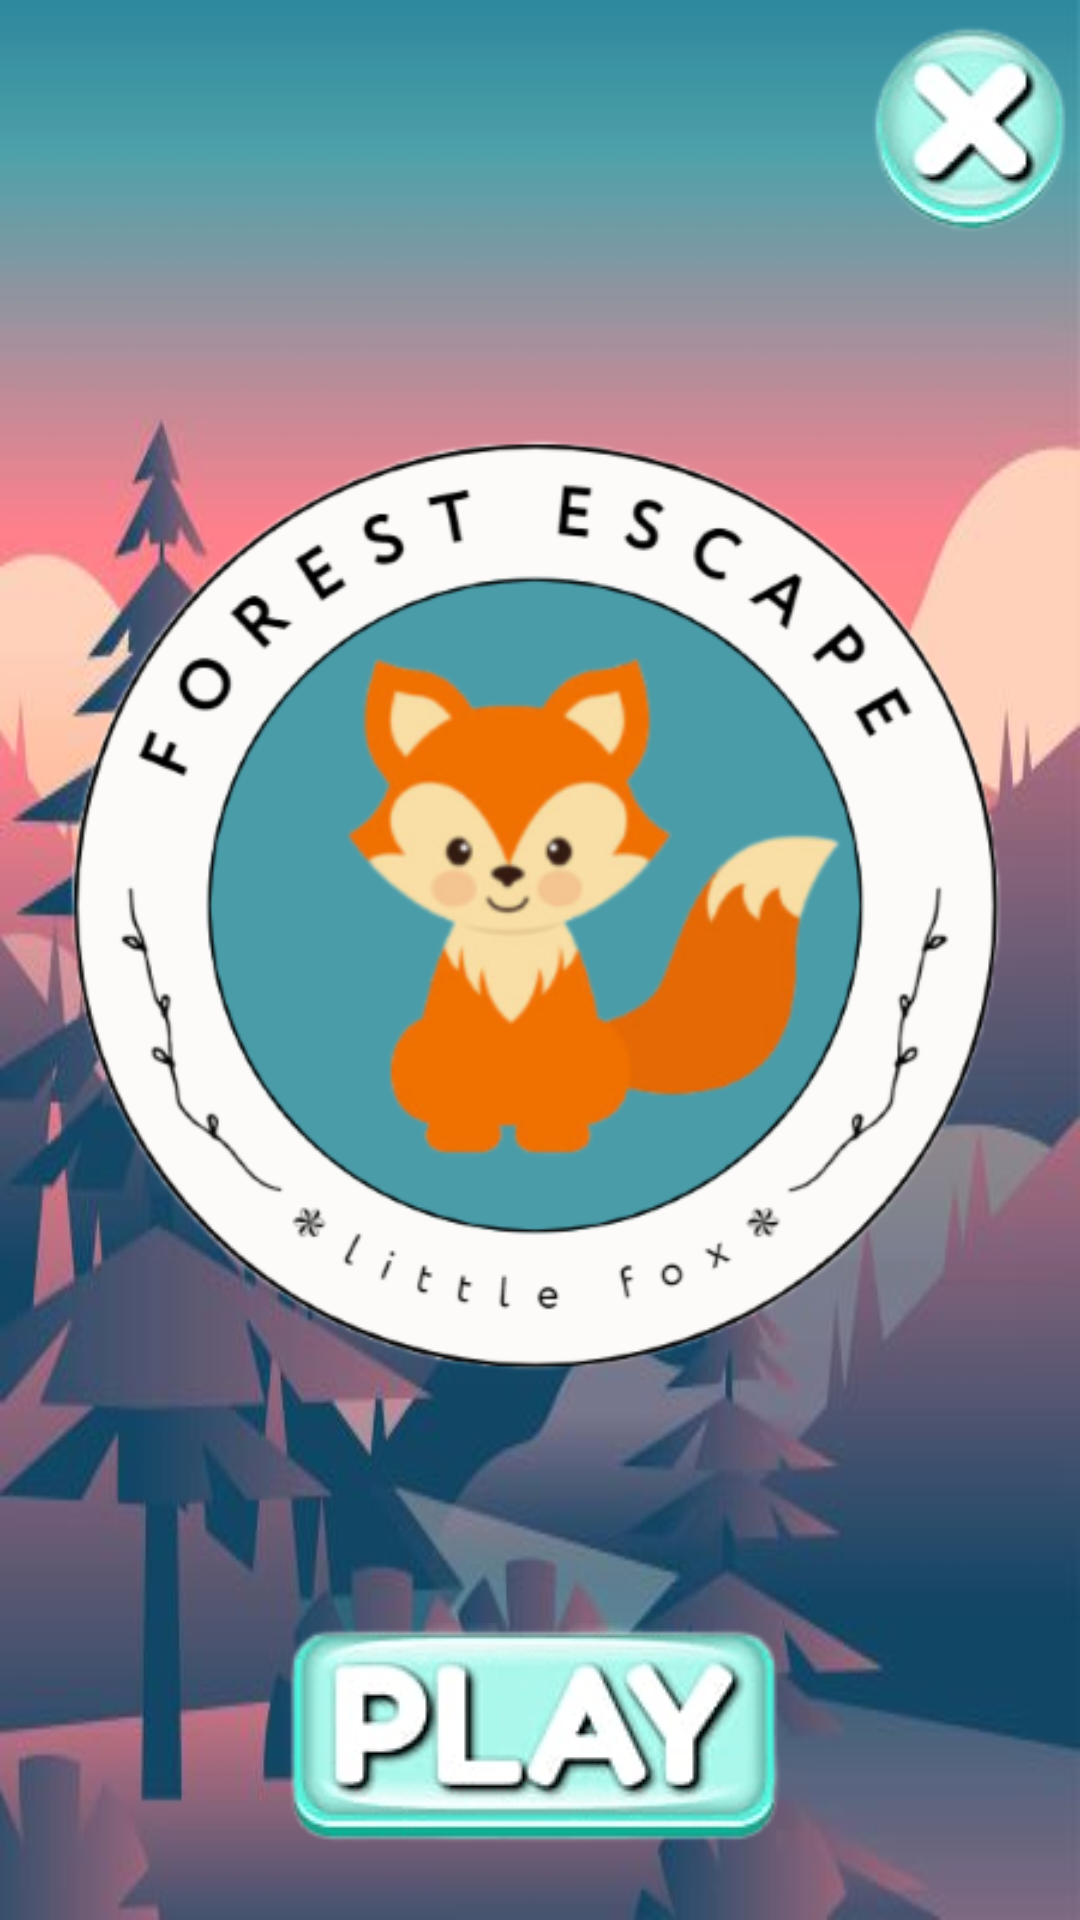

Point at icon controls on the screen. Image size 1080×1920, points as (x=x, y=y).
exit: (x=972, y=121)
